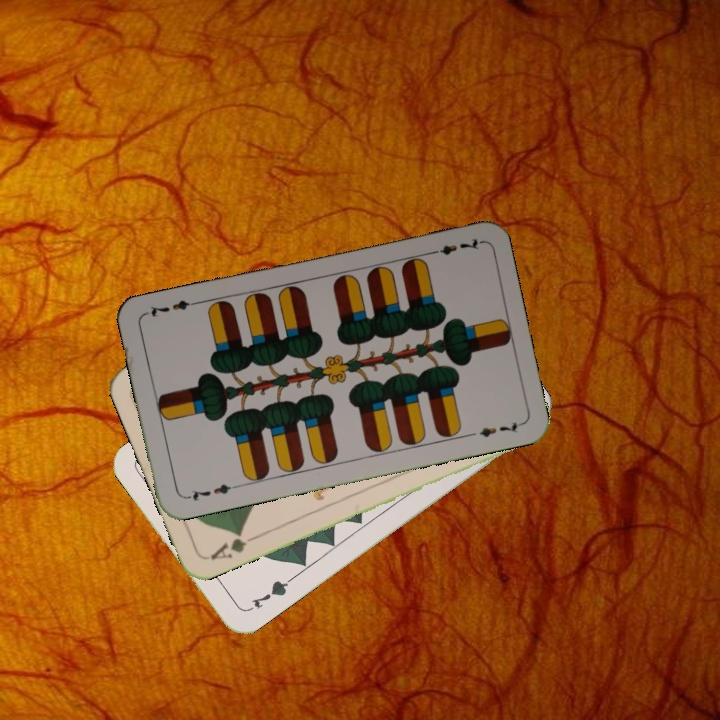E7: (181, 479, 240, 504), (425, 234, 484, 258)
G7: (247, 575, 294, 611)
GA: (206, 527, 260, 563)
